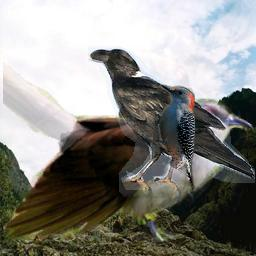Crow: (88, 46, 255, 198)
Cuckoo: (3, 3, 256, 251)
Woodpecker: (152, 82, 195, 190)
